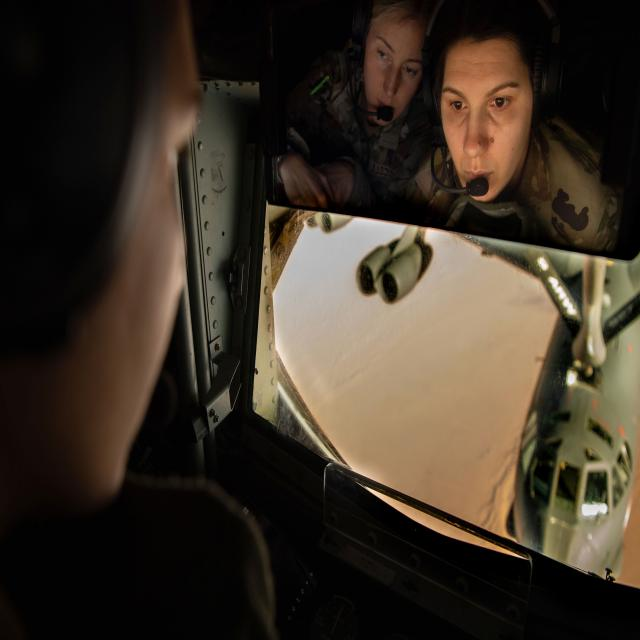MIL_Plane: (305, 212, 640, 580)
